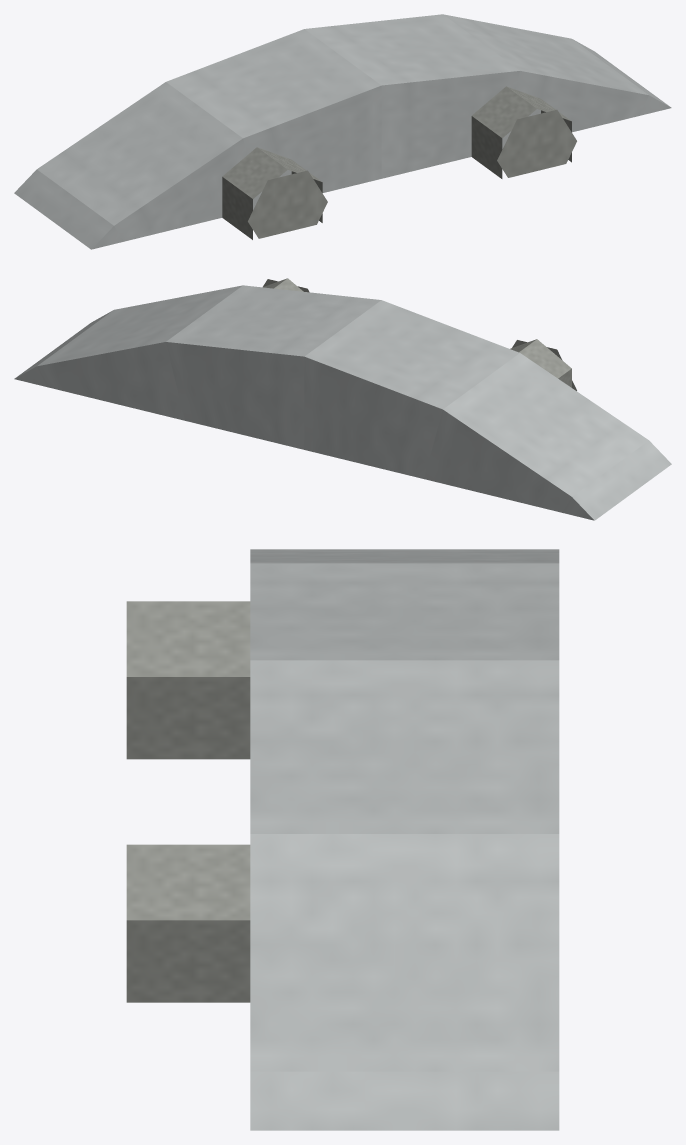
File: cell_77.obj
The picture shows the model from 3 angles, top to bottom: view 1: azimuth 30°, elevation 25°; view 2: azimuth 150°, elevation 25°; view 3: azimuth 270°, elevation 25°; orthographic projection. The views are drawn at different scales.
Size of the model in its own units: 0.6511 by 0.1 by 0.21.
